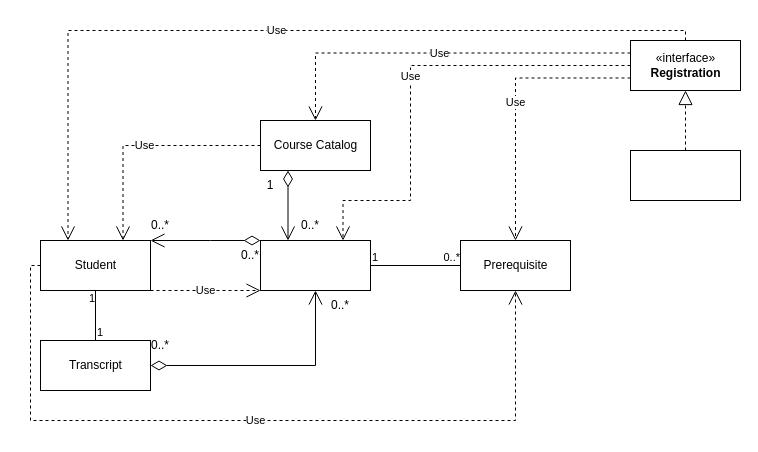
Image size: 758x452. Some labels were removed from this diagram. Here are the shapes that lost their labels. From the top down, the centre of each, then its label:
[685,175]: RegistrationImpl
[315,265]: Course
